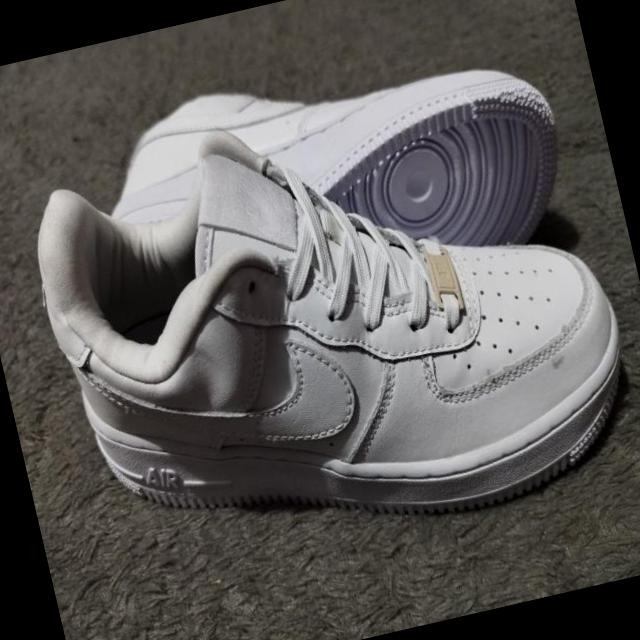nike_fake_airforce: (13, 63, 640, 593), (74, 28, 594, 333)
